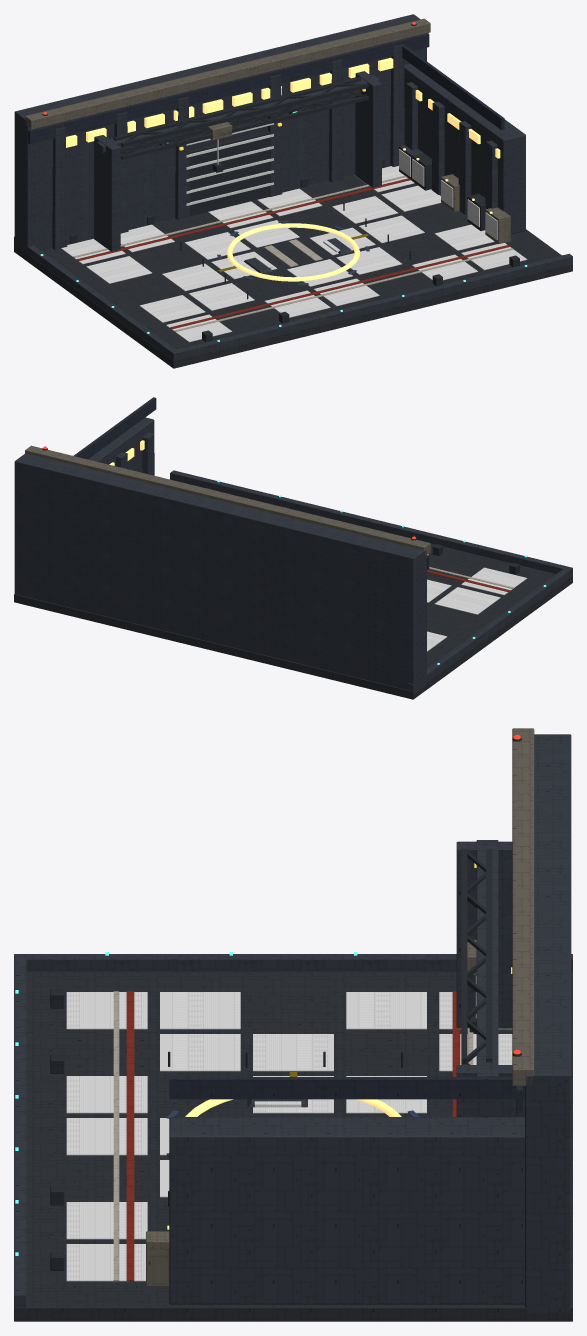
File: place_dock_interior_military.glb
3 renders of one model, top to bottom at view 1: azimuth 30°, elevation 25°; view 2: azimuth 150°, elevation 25°; view 3: azimuth 270°, elevation 25°, orthographic. The views are drawn at different scales.
Visible parts, largest first — view 1: LOD0_Armor, LOD0_Hull_deck, LOD0_MechanicalDark, LOD0_Mechanical, LOD0_Hull_aged, LOD0_Hull_navy, LOD0_Lights_Warm, LOD0_Hull_line_white, LOD0_Hull_line_red; view 2: LOD0_Armor, LOD0_Hull_deck, LOD0_Hull_aged, LOD0_MechanicalDark, LOD0_Hull_navy; view 3: LOD0_Armor, LOD0_Hull_deck, LOD0_MechanicalDark, LOD0_Hull_aged, LOD0_Hull_navy, LOD0_Mechanical, LOD0_Hull_line_red, LOD0_Hull_line_white.
Part boxes in pixels (box(x1,y1,x2,y2)): LOD0_Armor: box(14, 14, 572, 360); LOD0_Hull_deck: box(14, 165, 572, 368); LOD0_MechanicalDark: box(61, 123, 527, 342); LOD0_Mechanical: box(42, 23, 519, 342); LOD0_Hull_aged: box(25, 18, 510, 244); LOD0_Hull_navy: box(28, 33, 504, 150); LOD0_Lights_Warm: box(66, 57, 500, 281); LOD0_Hull_line_white: box(73, 175, 513, 331); LOD0_Hull_line_red: box(76, 178, 510, 329); LOD0_Armor: box(14, 417, 572, 693); LOD0_Hull_deck: box(14, 543, 572, 699); LOD0_Hull_aged: box(25, 445, 430, 555); LOD0_MechanicalDark: box(427, 554, 527, 651); LOD0_Hull_navy: box(73, 397, 429, 569); LOD0_Armor: box(14, 734, 572, 1312); LOD0_Hull_deck: box(14, 971, 572, 1321); LOD0_MechanicalDark: box(66, 975, 512, 1281); LOD0_Hull_aged: box(146, 728, 534, 1286); LOD0_Hull_navy: box(169, 1077, 524, 1112); LOD0_Mechanical: box(50, 737, 521, 1270); LOD0_Hull_line_red: box(126, 991, 460, 1281); LOD0_Hull_line_white: box(113, 991, 473, 1281).
Size of the model in its own units: 52 by 18.4 by 36.
15 materials, 10 textured.
